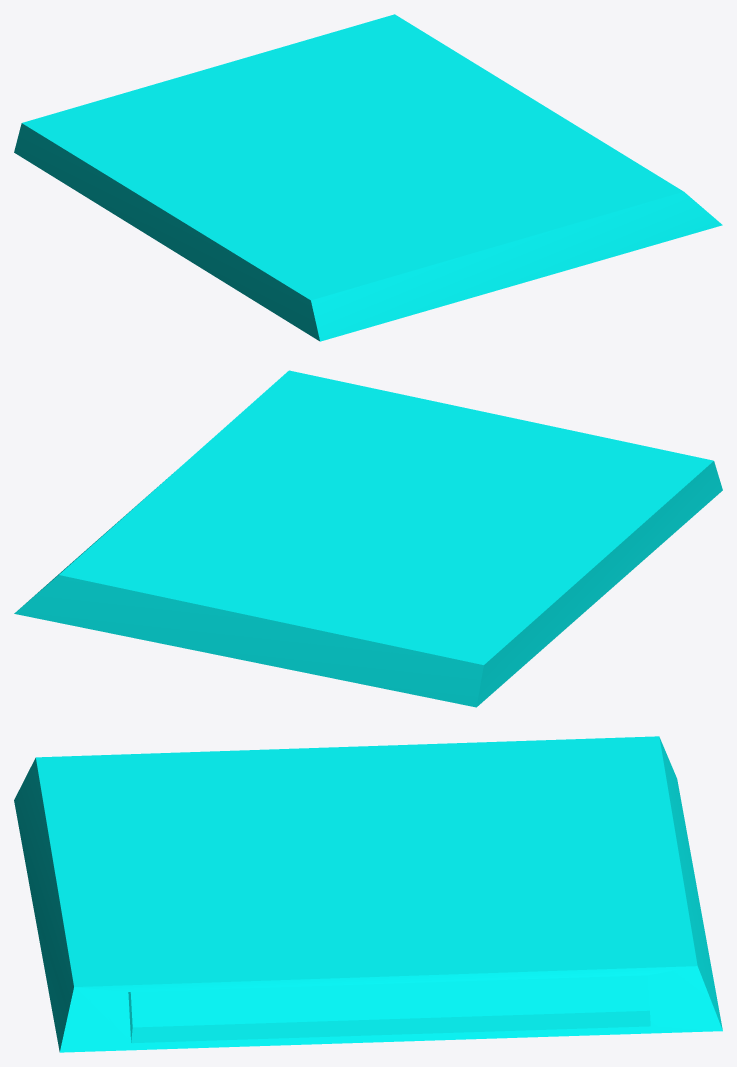
The picture shows the model from 3 angles, top to bottom: view 1: azimuth 30°, elevation 25°; view 2: azimuth 150°, elevation 25°; view 3: azimuth 270°, elevation 25°; orthographic projection. The views are drawn at different scales.
Parts seen in each view (by area): view 1: Cube; view 2: Cube; view 3: Cube.
Part boxes in pixels (bbox=[...]): Cube: bbox=[14, 14, 722, 341]; Cube: bbox=[14, 370, 722, 707]; Cube: bbox=[14, 736, 722, 1052].
Size of the model in its own units: 425 by 33.08 by 465.
